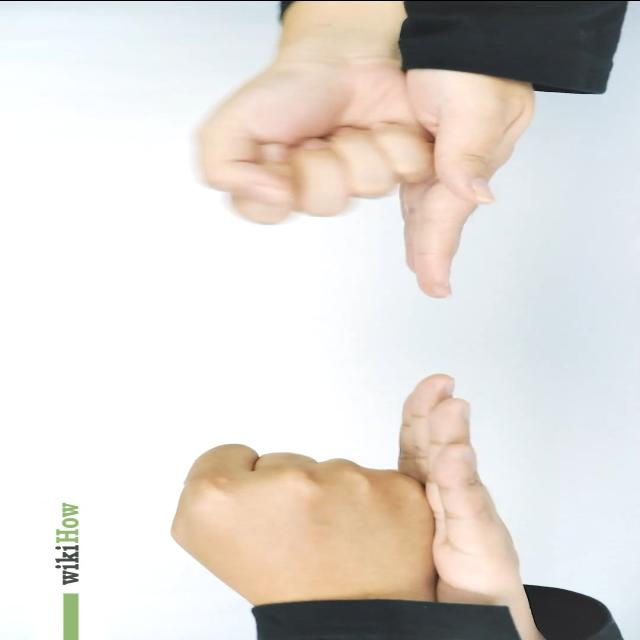Rock: (169, 442, 437, 606), (191, 64, 435, 224)
